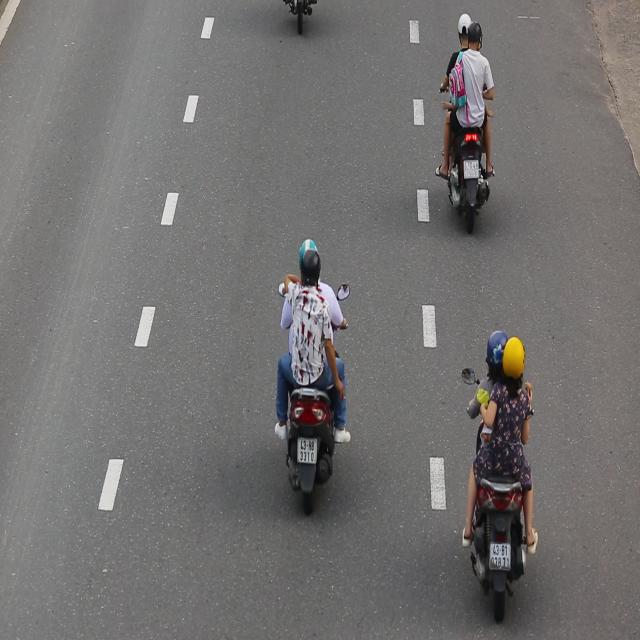motorbike: (456, 327, 542, 629), (272, 239, 353, 513), (438, 14, 500, 237)
